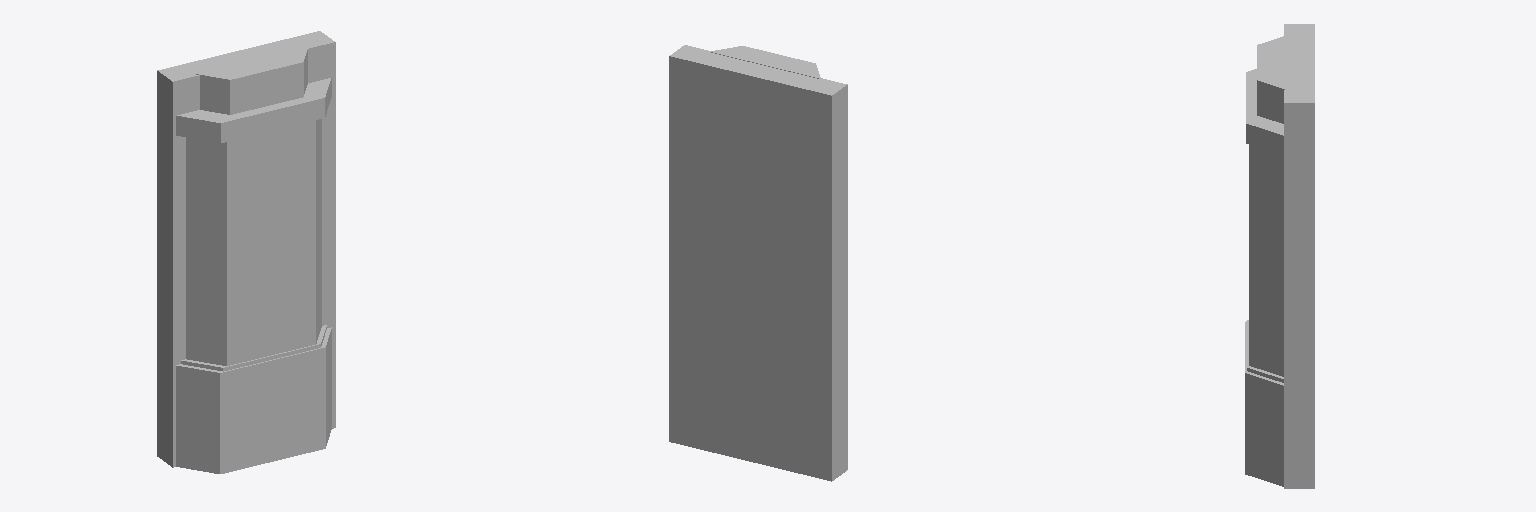
Rendered from cryostasis.obj.
The picture shows the model from 3 angles: view 1: azimuth 30°, elevation 25°; view 2: azimuth 150°, elevation 25°; view 3: azimuth 270°, elevation 25°; orthographic projection.
Visible parts, largest first — view 1: pCube3; view 2: pCube3; view 3: pCube3.
Boxes of the visible parts, x1,y1,x2,y2 form: pCube3: [157, 31, 335, 473]; pCube3: [669, 45, 847, 481]; pCube3: [1245, 24, 1314, 488].
Size of the model in its own units: 4.48 by 10.16 by 1.64.